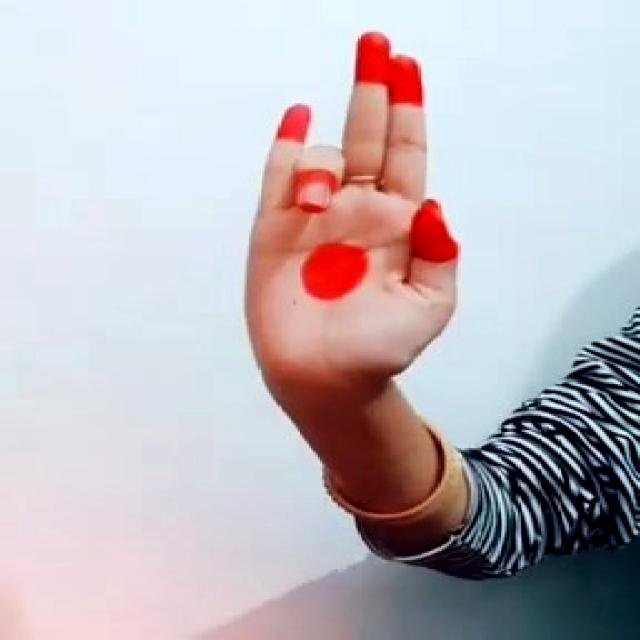Tripataka: (212, 19, 506, 398)
bangle: (283, 426, 499, 531)
